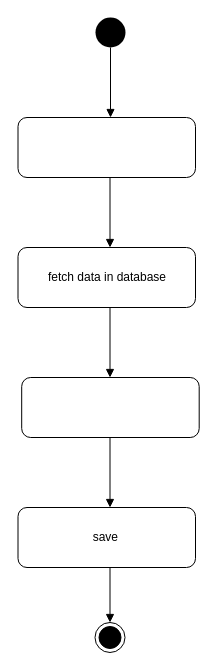
This 217x670 diagram has some shape labels left out. Each missing label, with the centre of its shape:
"open updata blood bank" belongs at (x=106, y=147).
"updata data" belongs at (x=110, y=407).
